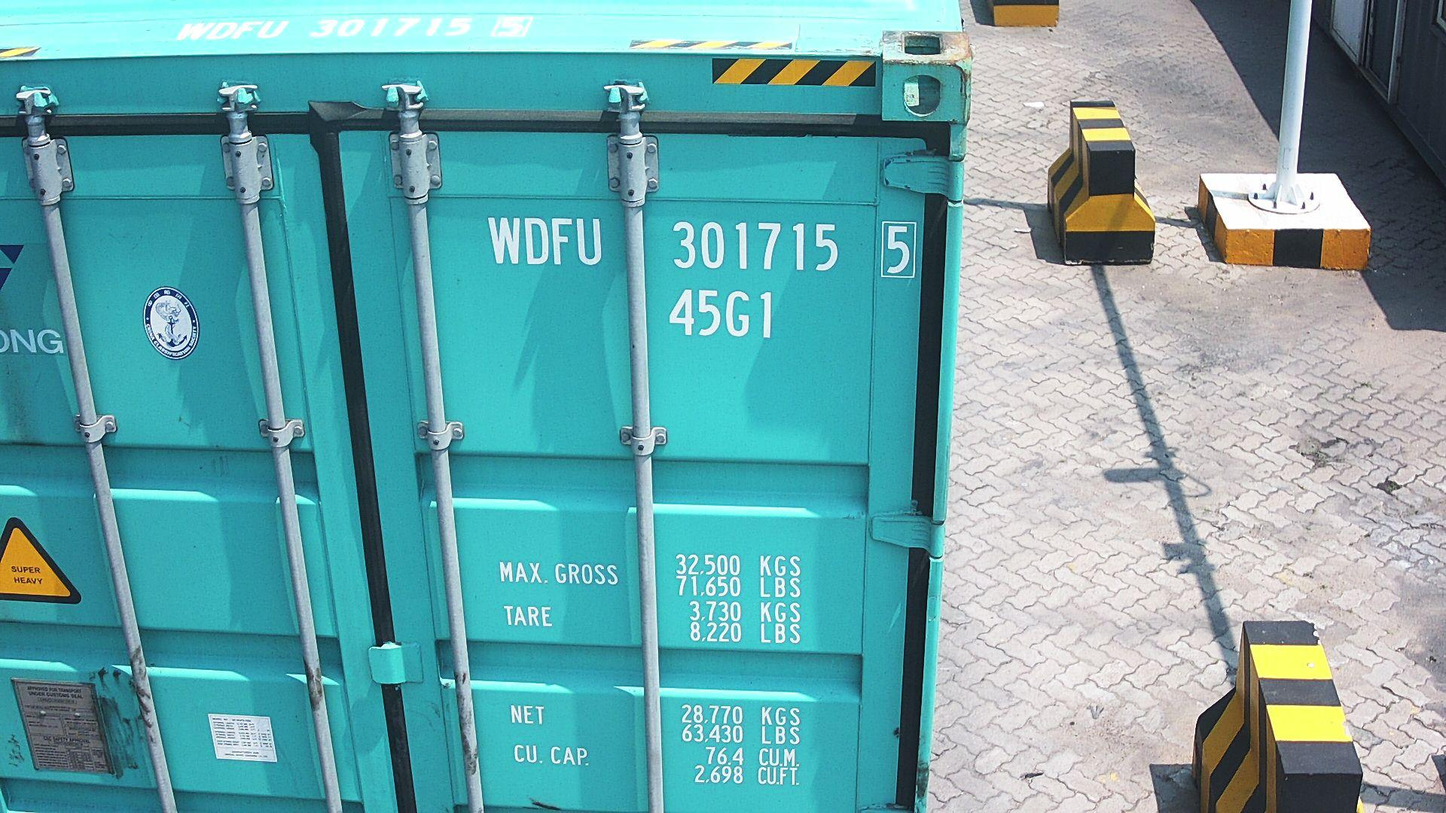container-numbers: (484, 210, 921, 282), (167, 11, 539, 44), (664, 285, 780, 344)
